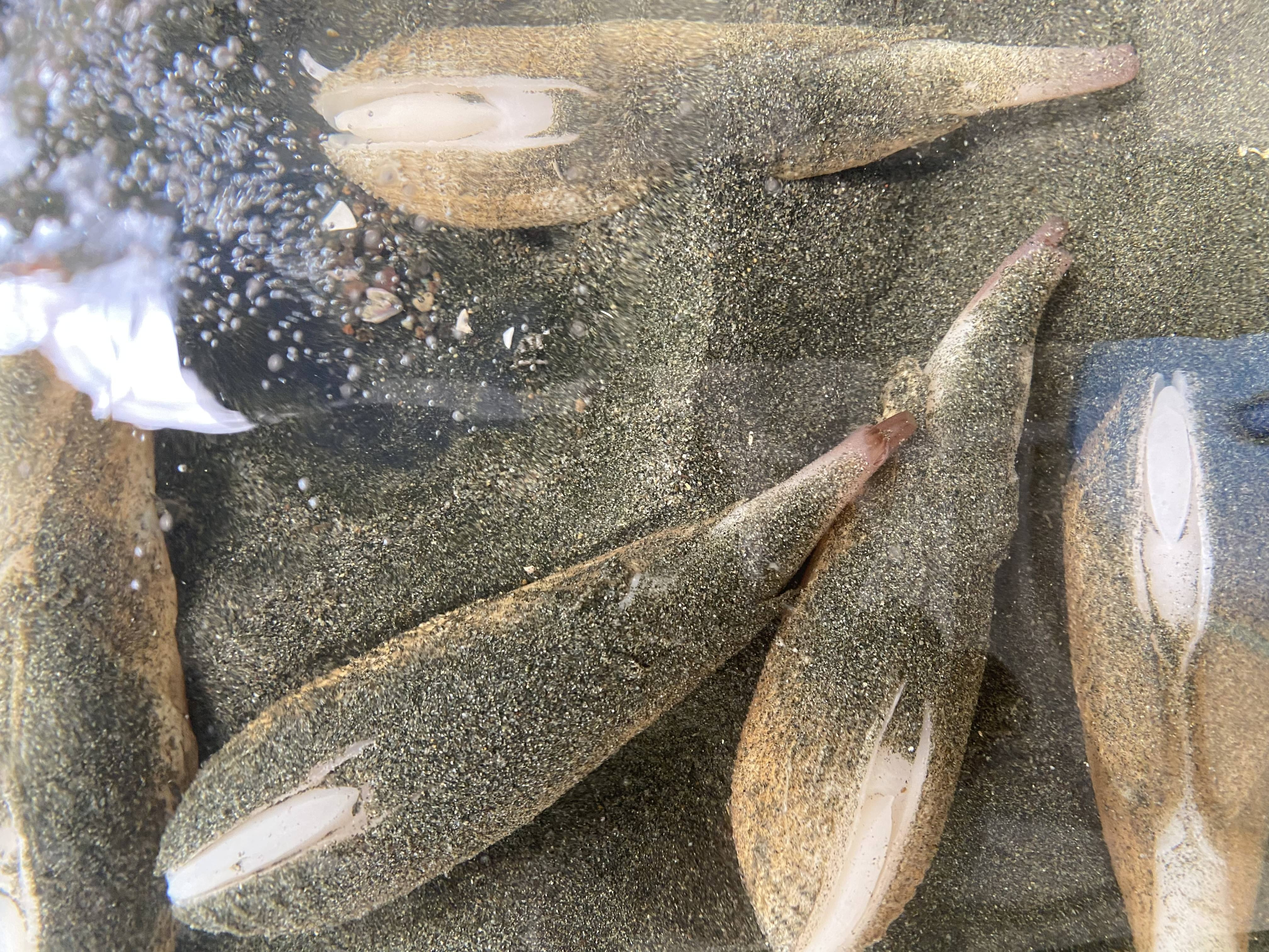Healthy: (159, 415, 914, 928), (731, 225, 1070, 952), (314, 19, 1136, 227), (1064, 371, 1269, 952)
